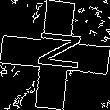N_W: (28, 33, 82, 77)
